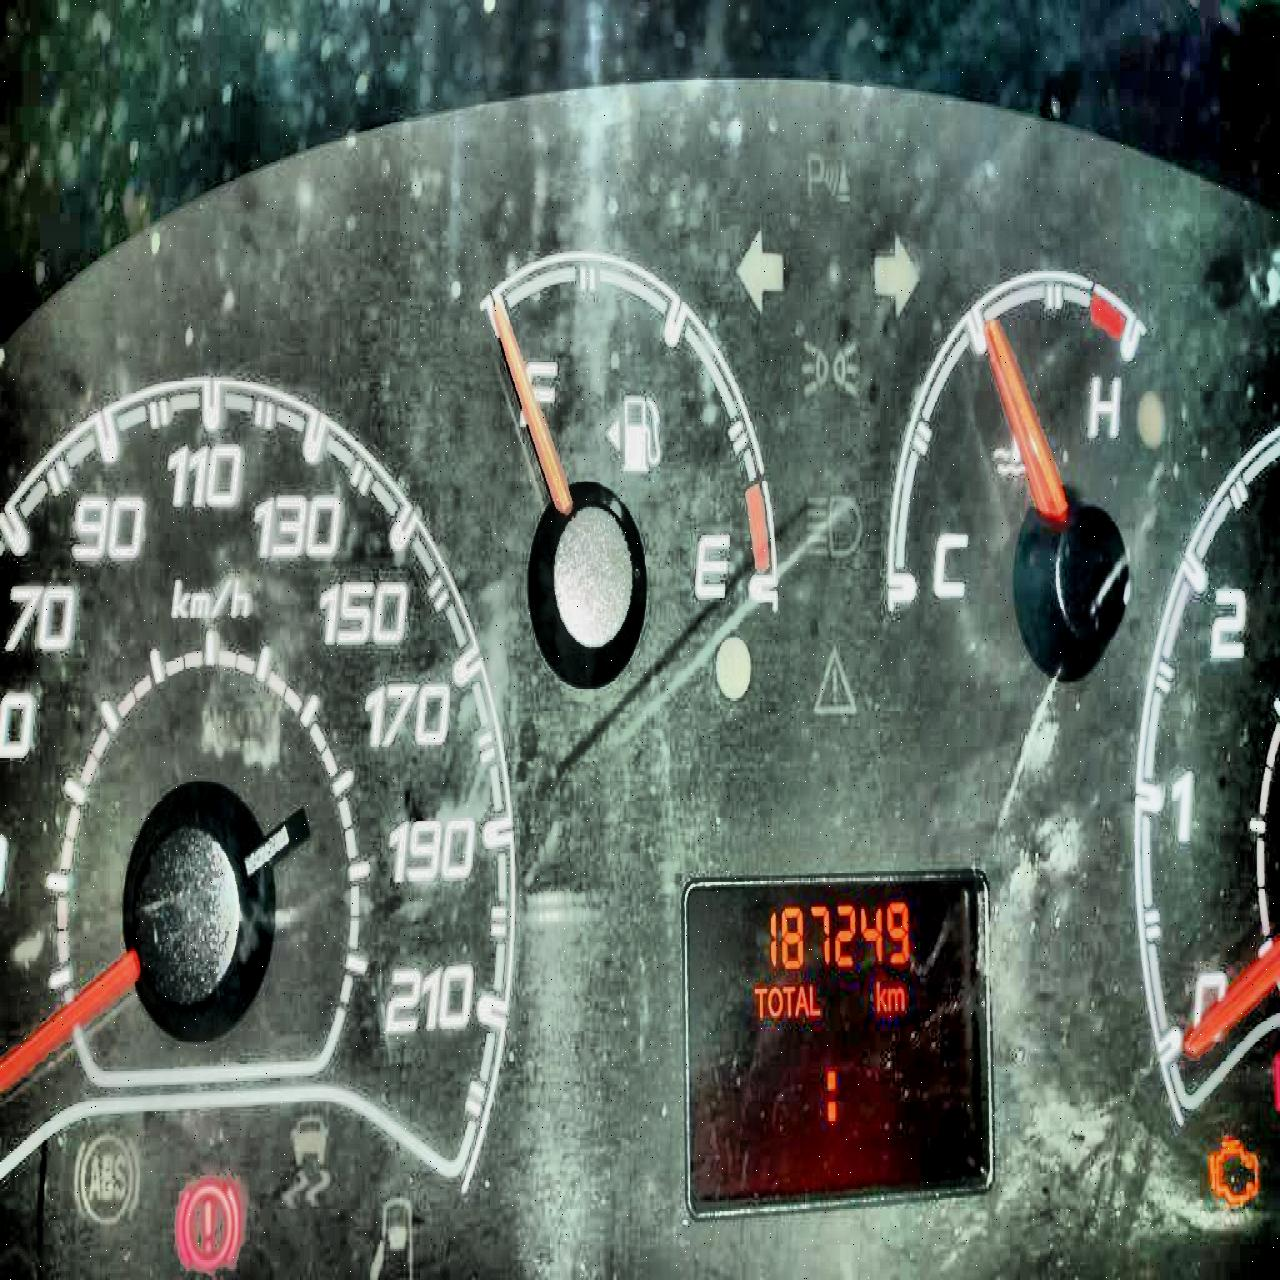1: (768, 905, 777, 967)
2: (835, 900, 855, 969)
4: (858, 903, 883, 960)
7: (810, 900, 830, 965)
8: (779, 903, 802, 968)
9: (886, 900, 908, 962)
X: (825, 1060, 837, 1131), (767, 982, 782, 1017), (887, 982, 904, 1014), (753, 982, 767, 1017), (781, 982, 795, 1016), (874, 975, 886, 1014), (809, 982, 821, 1016), (795, 985, 808, 1015)
odometer: (680, 866, 996, 1223)
